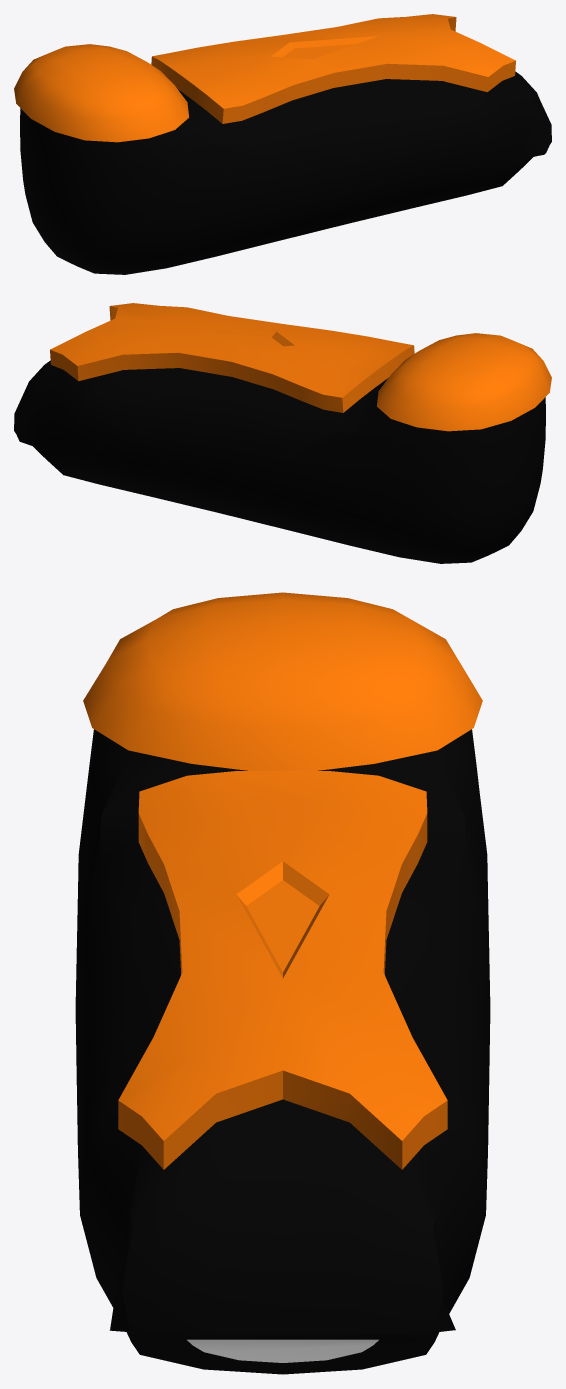
File: new_simHand_id13.fbx
3 views of the same model, one above another, from view 1: azimuth 30°, elevation 25°; view 2: azimuth 150°, elevation 25°; view 3: azimuth 270°, elevation 25° (orthographic). The views are drawn at different scales.
Visible parts, largest first — view 1: Cube; view 2: Cube; view 3: Cube.
Part boxes in pixels (box(x1,y1,x2,y2)): Cube: box(14, 14, 551, 274); Cube: box(14, 303, 551, 563); Cube: box(75, 592, 490, 1374).
Bounding box in the file's own units: 107 × 43.66 × 39.29.
